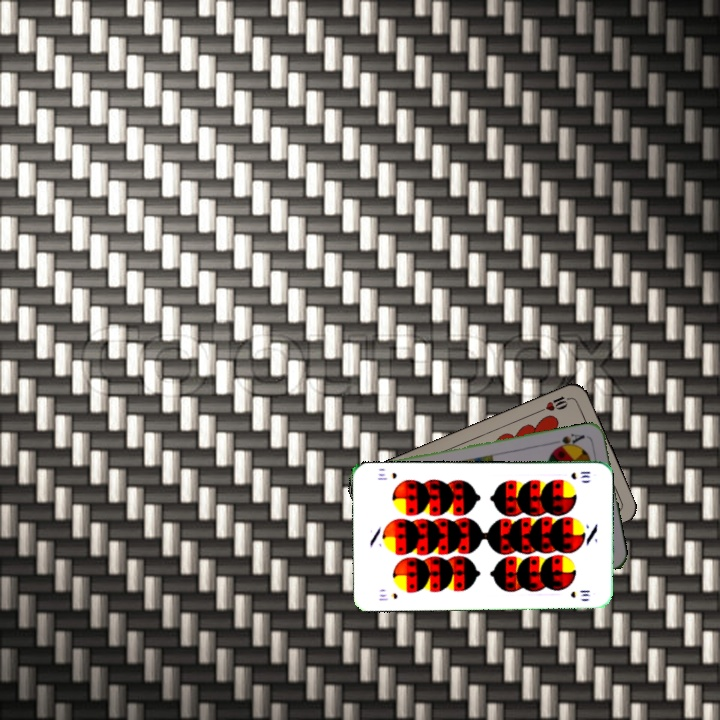H10: (535, 391, 574, 414)
S10: (567, 468, 593, 482), (375, 589, 400, 603)
SA: (551, 429, 587, 452)
